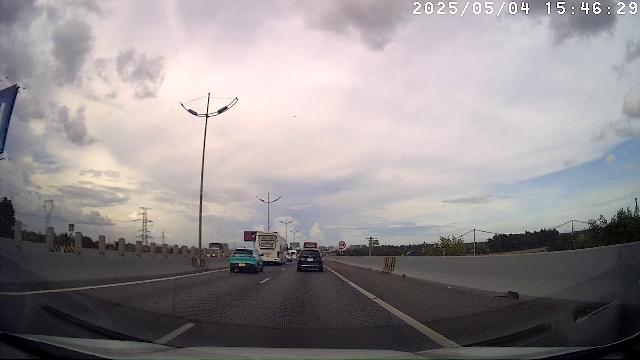127-toc-do-toi-da-80: (338, 241, 346, 249)
